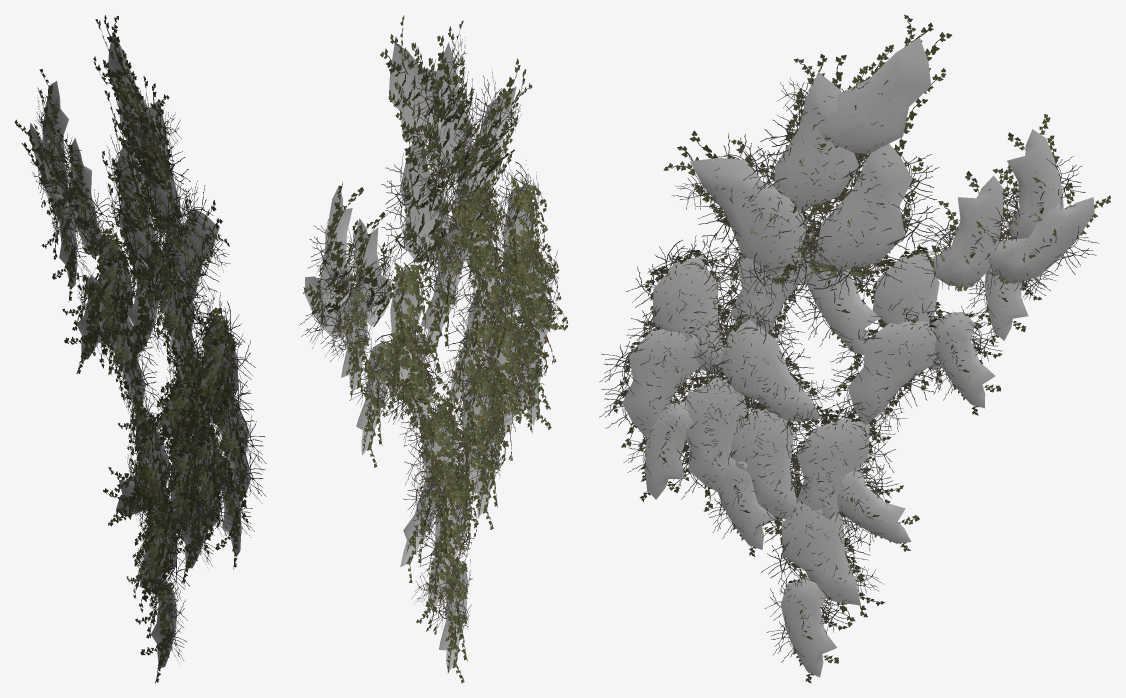
The model's file is ivy01lod0.dae.
The picture shows the model from 3 angles, left to right: view 1: azimuth 30°, elevation 25°; view 2: azimuth 150°, elevation 25°; view 3: azimuth 270°, elevation 25°; orthographic projection. The views are drawn at different scales.
Visible parts, largest first — view 1: SM_Ivy_Preset_01_LOD; view 2: SM_Ivy_Preset_01_LOD; view 3: SM_Ivy_Preset_01_LOD.
Part boxes in pixels (box(x1,y1,x2,y2)): SM_Ivy_Preset_01_LOD: box(14, 15, 266, 683); SM_Ivy_Preset_01_LOD: box(299, 15, 568, 683); SM_Ivy_Preset_01_LOD: box(599, 14, 1110, 683).
Size of the model in its own units: 0.6938 by 12.98 by 8.98.
